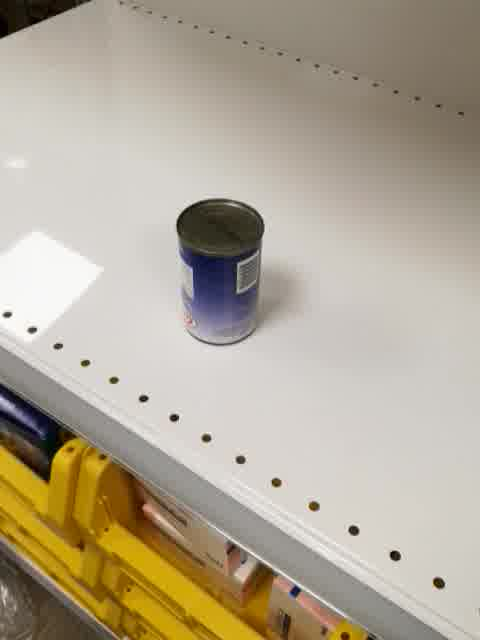sardine: (174, 197, 266, 346)
